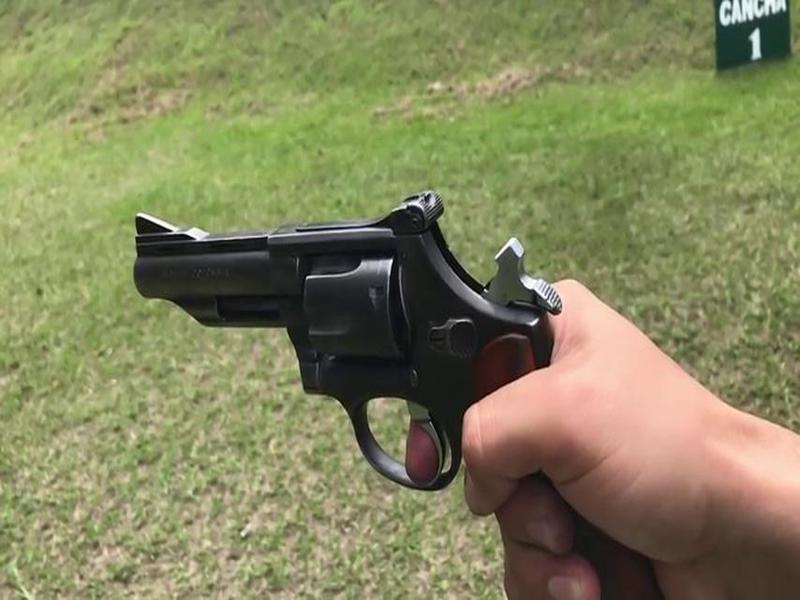Revolver: (107, 171, 572, 488)
